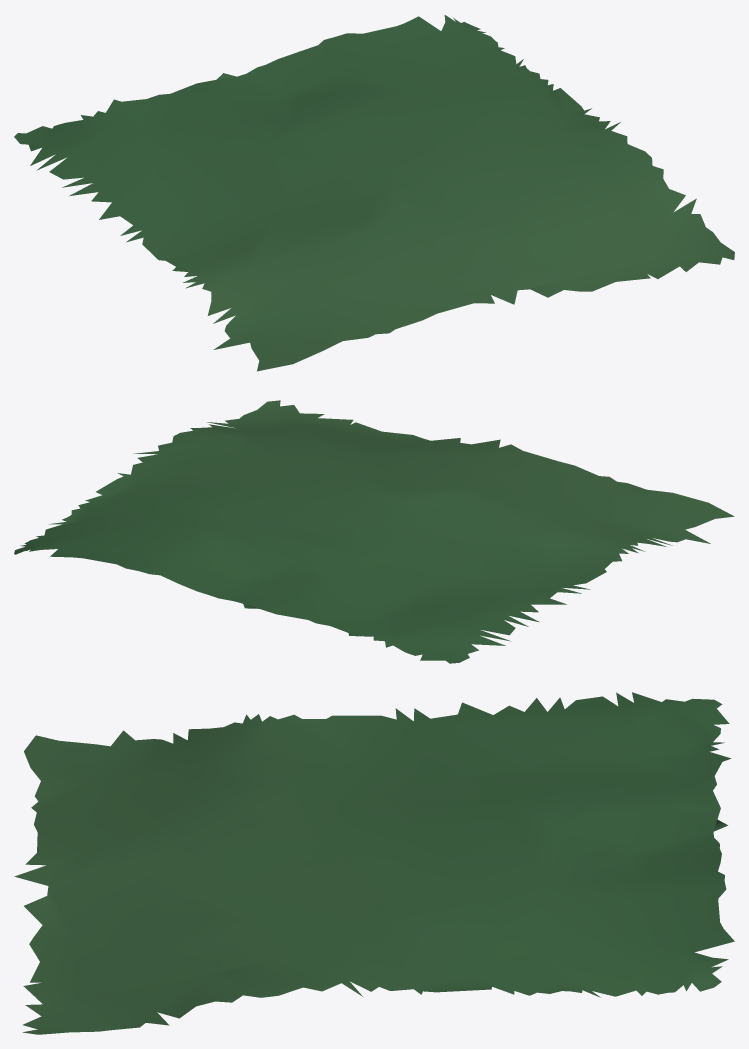
File: payo_land_xm1_y8_lod2.glb
3 views of the same model, one above another, from view 1: azimuth 30°, elevation 25°; view 2: azimuth 150°, elevation 25°; view 3: azimuth 270°, elevation 25° (orthographic). The views are drawn at different scales.
Visible parts, largest first — view 1: payo_land_xm1_y8; view 2: payo_land_xm1_y8; view 3: payo_land_xm1_y8.
Part boxes in pixels (x1,y1,x2,y2): payo_land_xm1_y8: (14,15,734,371); payo_land_xm1_y8: (14,400,734,663); payo_land_xm1_y8: (14,692,734,1034).
Size of the model in its own units: 280 by 30.18 by 270.
